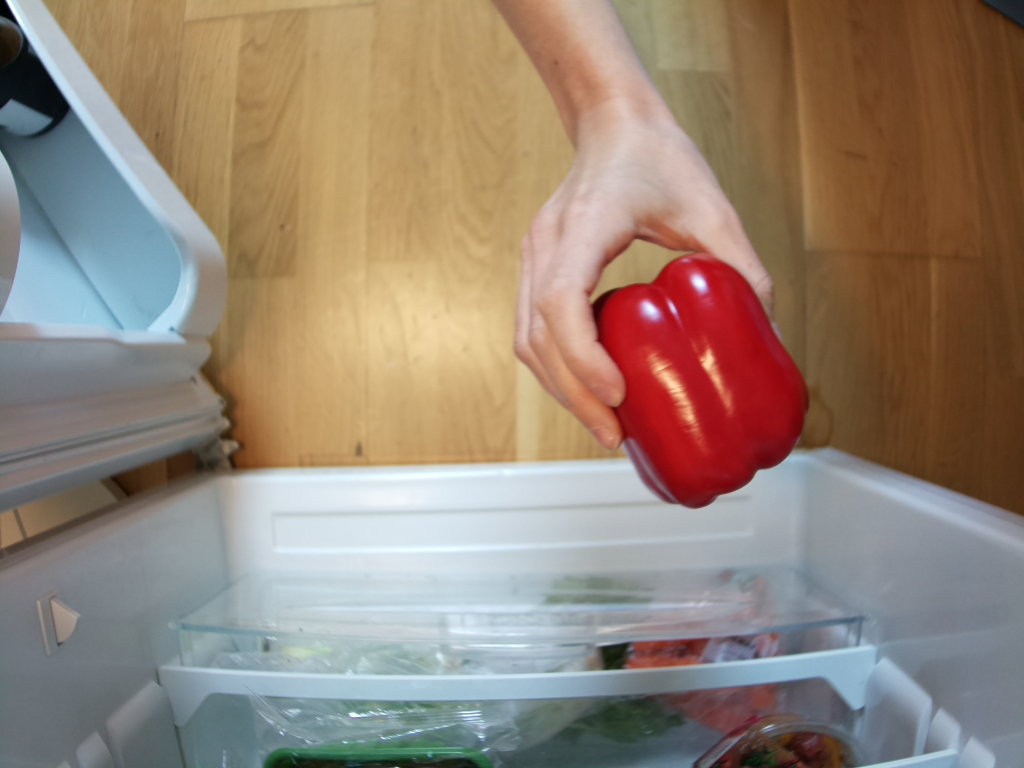pepper: (590, 252, 814, 508)
